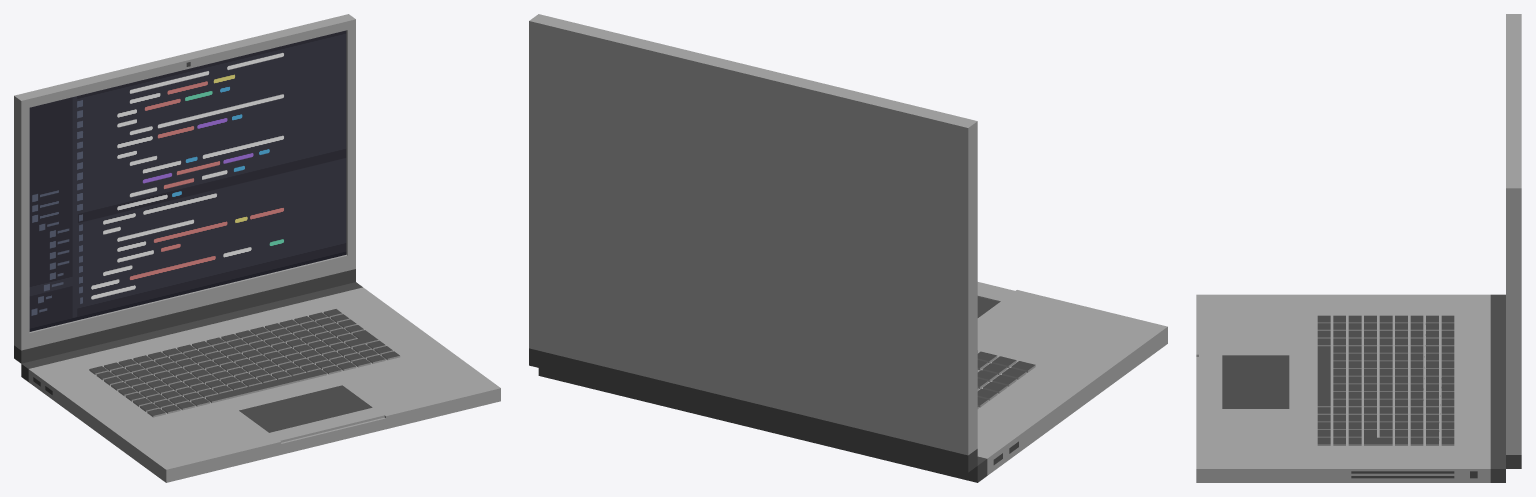
Rendered from notebook3dnew.gltf.
The picture shows the model from 3 angles, left to right: view 1: azimuth 30°, elevation 25°; view 2: azimuth 150°, elevation 25°; view 3: azimuth 270°, elevation 25°; orthographic projection. The views are drawn at different scales.
Parts seen in each view (by area): view 1: notebook3d; view 2: notebook3d; view 3: notebook3d.
Boxes of the visible parts, box(x1,y1,x2,y2) form: notebook3d: box(14, 14, 500, 482); notebook3d: box(529, 14, 1167, 482); notebook3d: box(1196, 14, 1521, 482).
Bounding box in the file's own units: 16 × 12.6 × 12.6.
3 materials, 1 textured.
